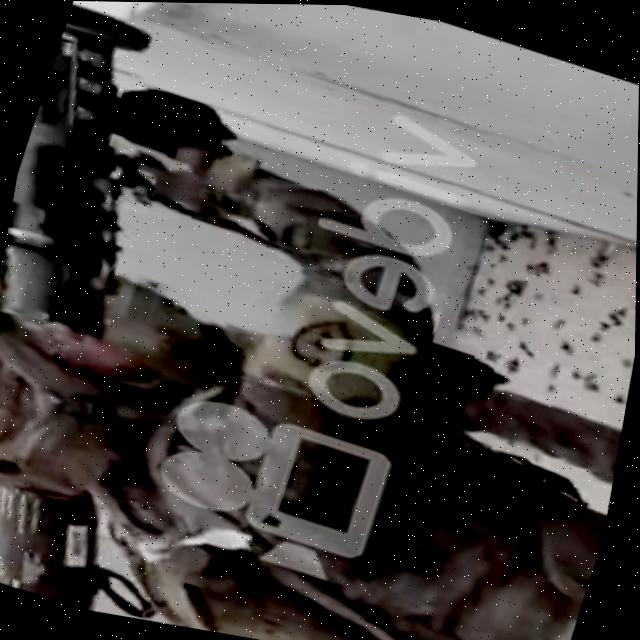rocket: (0, 0, 180, 333)
